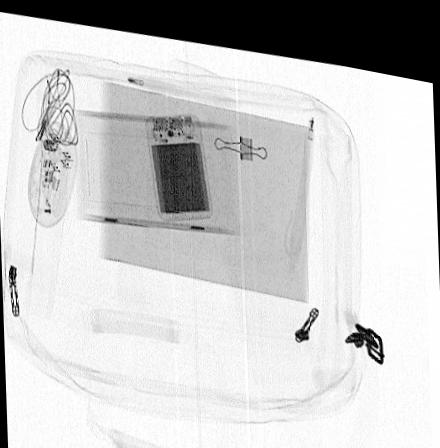Powerbank: (142, 104, 211, 216)
